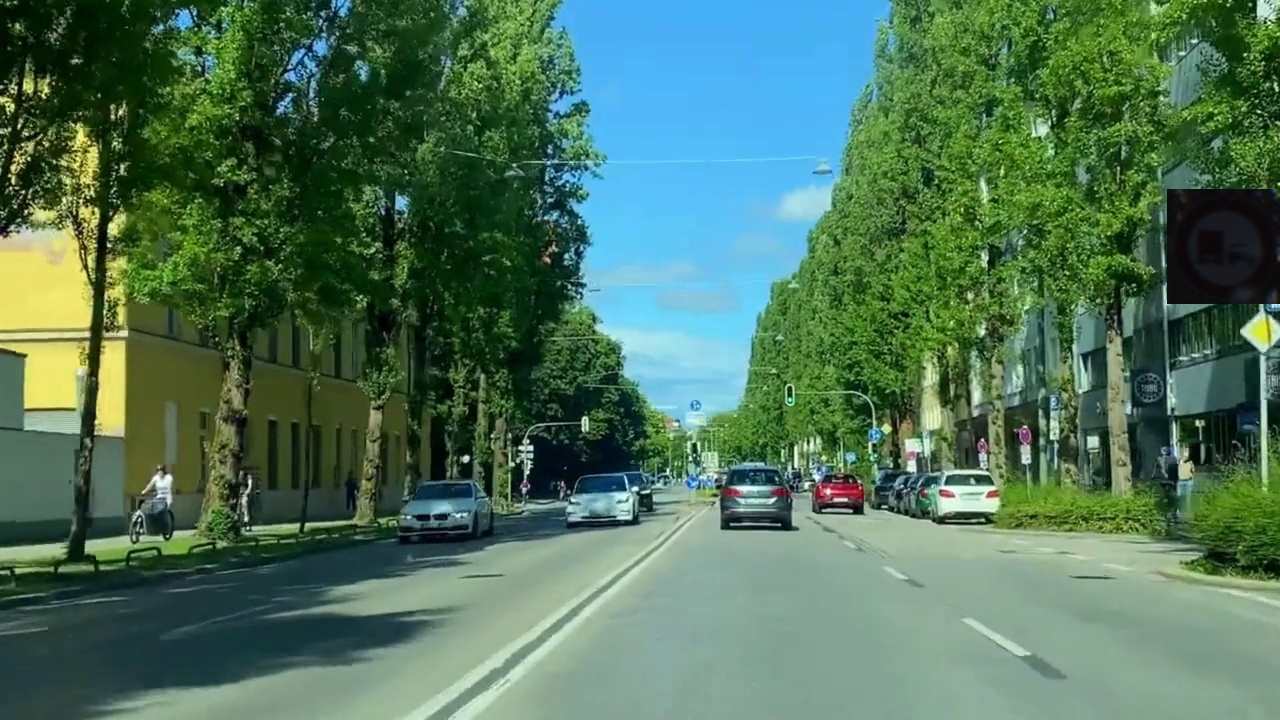No pass >3.5t: (1167, 189, 1280, 304)
